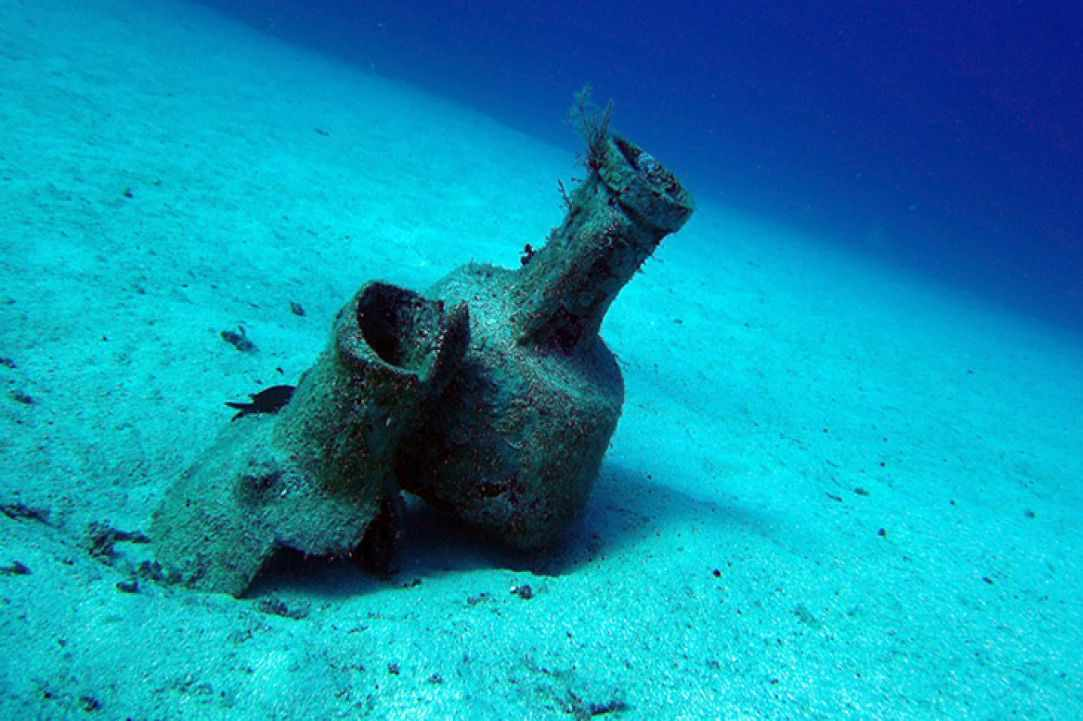amphora: (396, 121, 700, 576), (155, 272, 451, 605)
